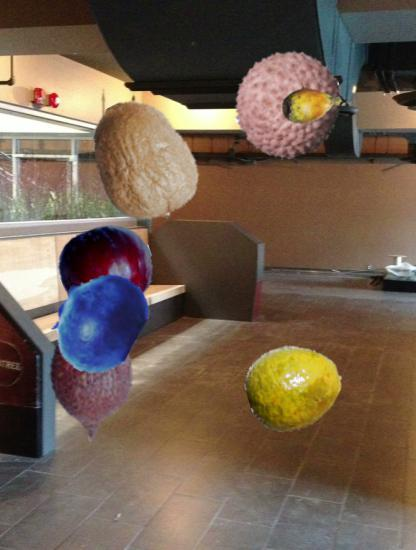Cactus: (281, 73, 343, 135)
Guava: (247, 339, 343, 435)
Huckleberry: (47, 270, 152, 375)
Kiwi: (79, 98, 206, 225)
Lychee: (233, 49, 344, 160)
Plum: (59, 220, 154, 315)
Salak: (16, 293, 166, 443)
